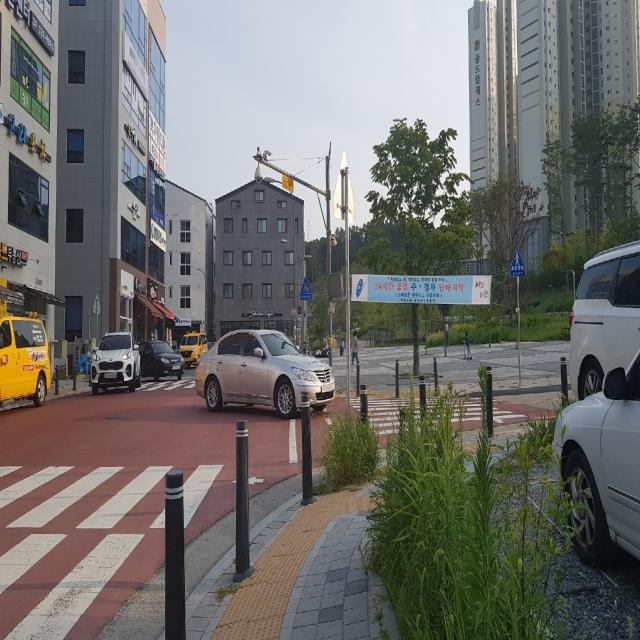횡단보도: (0, 463, 224, 640), (345, 396, 528, 434)
